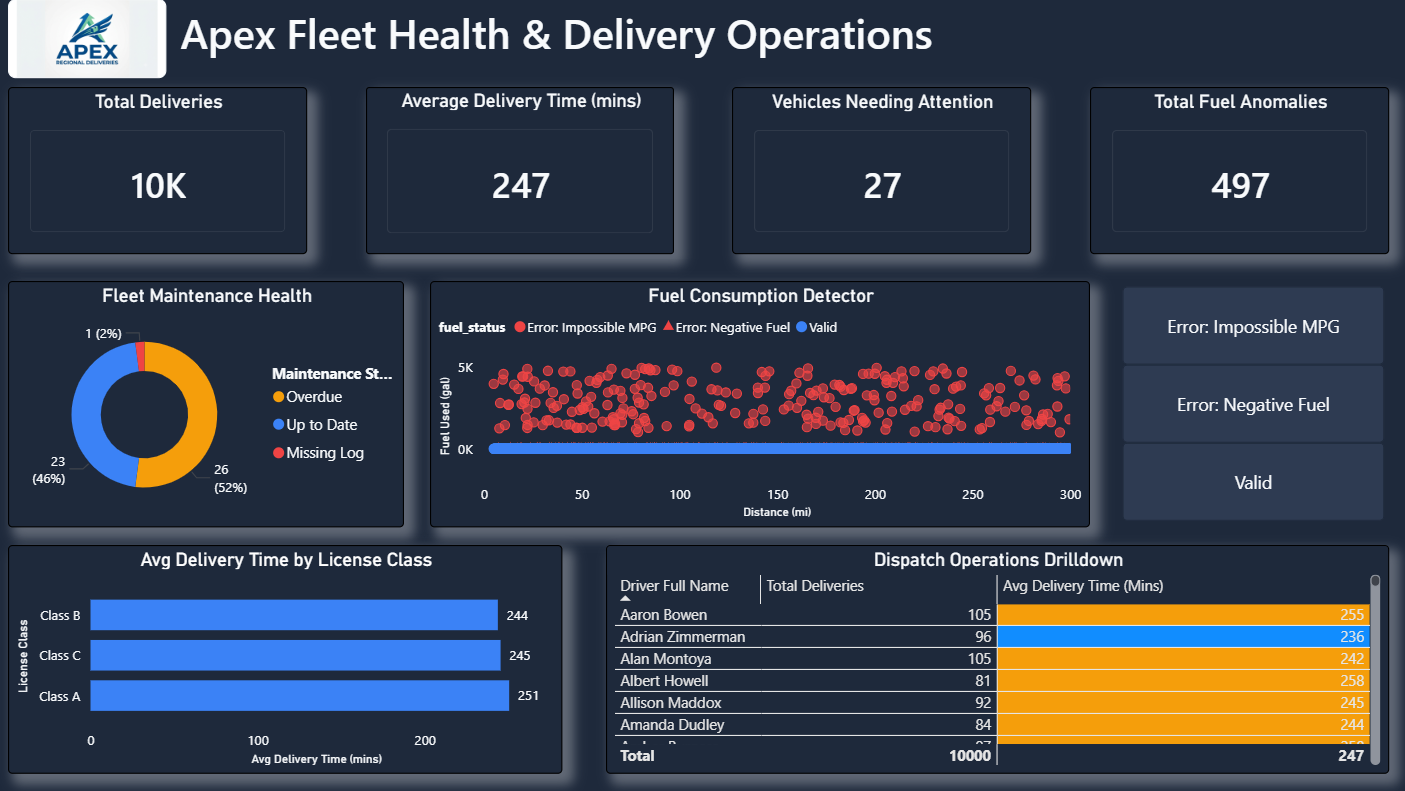

The page's visual inventory and layout, read from the dashboard file:
{"tool":"powerbi","page":{"name":"Page 1","canvas":[1280,720],"ordinal":0},"visuals":[{"type":"textbox","box":[160,0,736,72],"z":0},{"type":"cardVisual","title":"Total Deliveries","fields":{"Data":["delivery_routes_clean.Total Deliveries"]},"box":[8,80,272,152],"z":1000},{"type":"cardVisual","title":"Average Delivery Time  (Mins.)","fields":{"Data":["delivery_routes_clean.Avg Delivery Time (Mins)"]},"box":[333.3,80,280,152],"z":2000},{"type":"cardVisual","title":"Vehicles Needing Attention","fields":{"Data":["vehicles_clean.Vehicles Needing Attention"]},"box":[666.7,80,272,152],"z":3000},{"type":"cardVisual","title":"Total Fuel Anomalies","fields":{"Data":["delivery_routes_clean.Total Fuel Anomalies"]},"box":[992,80,272,152],"z":4000},{"type":"donutChart","title":"Fleet Maintenance Health","fields":{"Category":["vehicles_clean.maintenance_status"],"Y":["CountNonNull(vehicles_clean.vehicle_id)"]},"box":[8,256,360,224],"z":5000},{"type":"scatterChart","title":"Fuel Consumption Detector","fields":{"X":["delivery_routes_clean.distance_miles"],"Y":["delivery_routes_clean.fuel_used_gallons"],"Series":["delivery_routes_clean.fuel_status"]},"box":[392,256,600,224],"z":6000},{"type":"advancedSlicerVisual","title":"Fuel Status","fields":{"Values":["delivery_routes_clean.fuel_status"]},"box":[1016,256,248,224],"z":7000},{"type":"clusteredBarChart","title":"Avg Delivery Time (Mins) by License Class","fields":{"Category":["drivers_clean.license_class"],"Y":["delivery_routes_clean.Avg Delivery Time (Mins)"]},"box":[16,496,504,208],"z":8000},{"type":"pivotTable","title":"Dispatch Operations Drilldown","fields":{"Values":["delivery_routes_clean.Total Deliveries","delivery_routes_clean.Avg Delivery Time (Mins)"],"Rows":["drivers_clean.Driver Full Name"]},"box":[552,496,712,208],"z":8001},{"type":"image","box":[8,0,144,72],"z":8002}]}

Visuals, with their boxes in screenshot pixels (x1, y1, x2, y2), scaled from the page's 1280x720 canvas onto the 1405x791 screenshot:
textbox: [x1=176, y1=0, x2=984, y2=79]
"Total Deliveries" cardVisual: [x1=9, y1=88, x2=307, y2=255]
"Average Delivery Time  (Mins.)" cardVisual: [x1=366, y1=88, x2=673, y2=255]
"Vehicles Needing Attention" cardVisual: [x1=732, y1=88, x2=1030, y2=255]
"Total Fuel Anomalies" cardVisual: [x1=1089, y1=88, x2=1387, y2=255]
"Fleet Maintenance Health" donutChart: [x1=9, y1=281, x2=404, y2=527]
"Fuel Consumption Detector" scatterChart: [x1=430, y1=281, x2=1089, y2=527]
"Fuel Status" advancedSlicerVisual: [x1=1115, y1=281, x2=1387, y2=527]
"Avg Delivery Time (Mins) by License Class" clusteredBarChart: [x1=18, y1=545, x2=571, y2=773]
"Dispatch Operations Drilldown" pivotTable: [x1=606, y1=545, x2=1387, y2=773]
image: [x1=9, y1=0, x2=167, y2=79]
